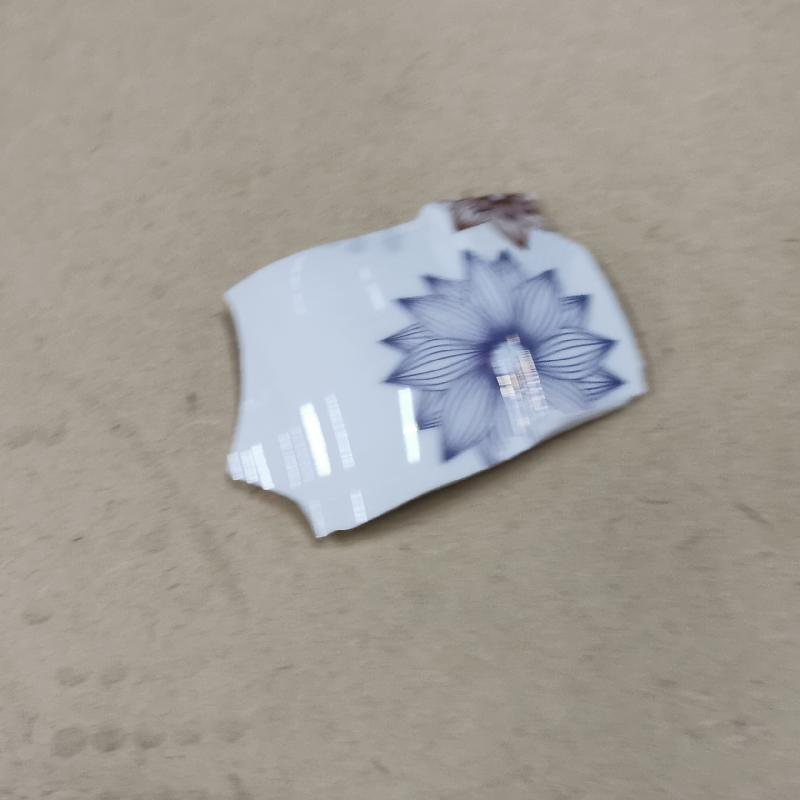ceram: (218, 186, 671, 550)
